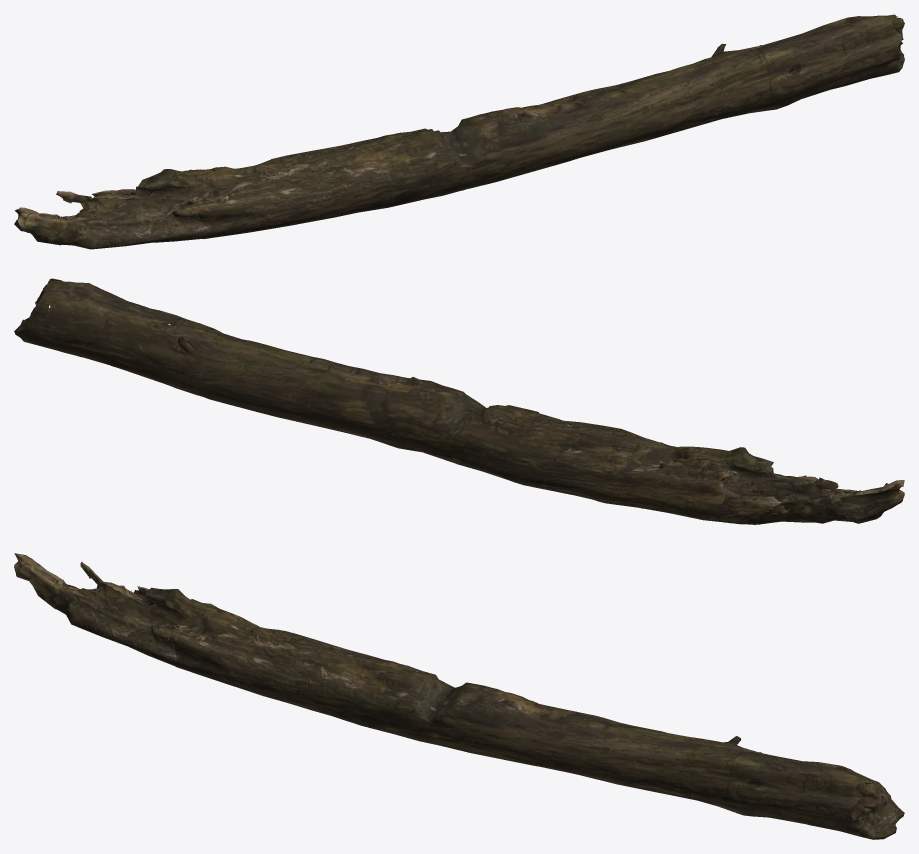
Rendered from dead_tree_trunk.glb.
3 views of the same model, one above another, from view 1: azimuth 30°, elevation 25°; view 2: azimuth 150°, elevation 25°; view 3: azimuth 330°, elevation 25° (orthographic).
Visible parts, largest first — view 1: dead_tree_trunk; view 2: dead_tree_trunk; view 3: dead_tree_trunk.
Part boxes in pixels (bbox=[...]): dead_tree_trunk: bbox=[14, 14, 904, 249]; dead_tree_trunk: bbox=[14, 278, 904, 524]; dead_tree_trunk: bbox=[14, 553, 904, 839].
Size of the model in its own units: 3.05 by 0.2897 by 0.275.
1 material, 1 textured.
